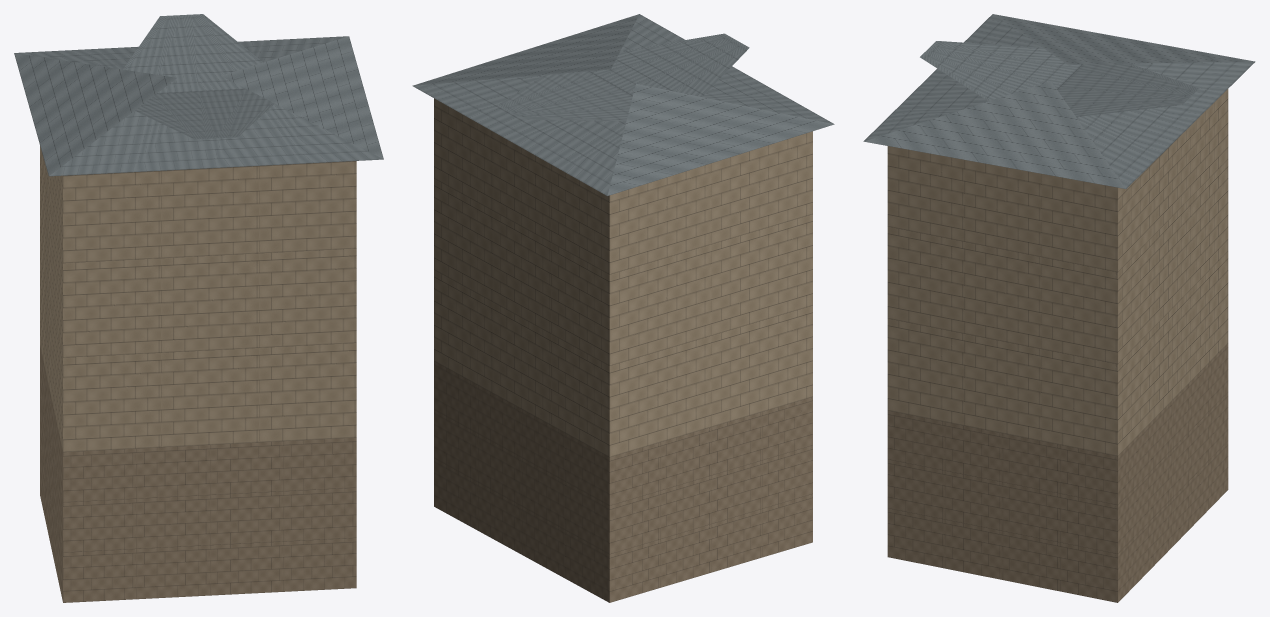
File: bld_c35_-27_454.gltf
The picture shows the model from 3 angles, left to right: view 1: azimuth 30°, elevation 25°; view 2: azimuth 150°, elevation 25°; view 3: azimuth 270°, elevation 25°; orthographic projection. The views are drawn at different scales.
Parts seen in each view (by area): view 1: bld_c35_-27_454; view 2: bld_c35_-27_454; view 3: bld_c35_-27_454.
Boxes of the visible parts, <box> form: bld_c35_-27_454: <box>14,14,383,602</box>; bld_c35_-27_454: <box>412,14,834,602</box>; bld_c35_-27_454: <box>863,14,1255,602</box>.
Size of the model in its own units: 13.07 by 15.7 by 12.37.
Materials: 3 (3 with a texture image).
